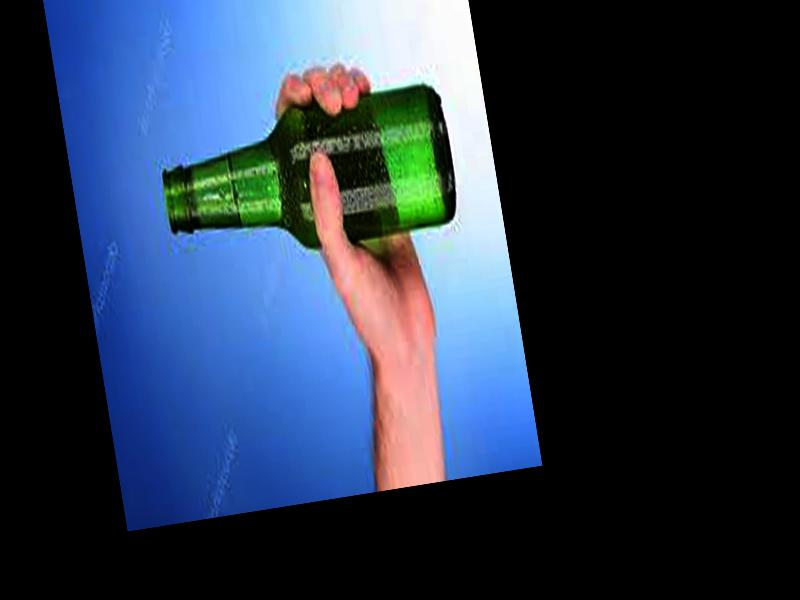Beer: (153, 85, 462, 267)
